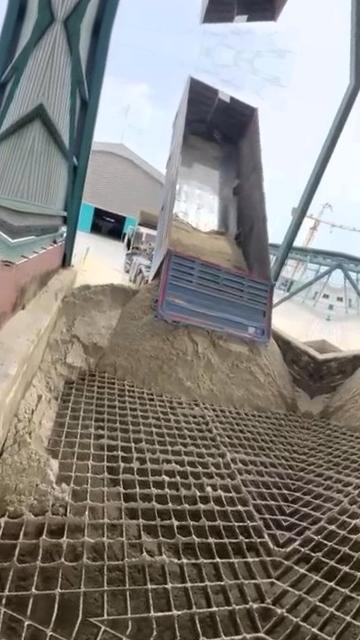sand: (0, 283, 296, 510), (169, 219, 247, 271), (297, 388, 312, 416)
